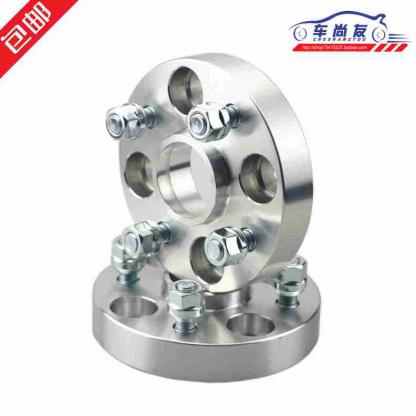FOD: (106, 47, 317, 296), (86, 236, 328, 386)
